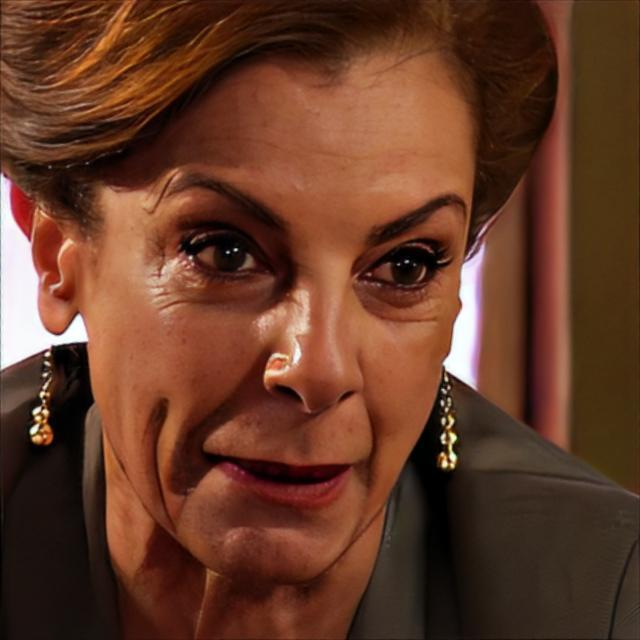surprise: (81, 35, 480, 584)
